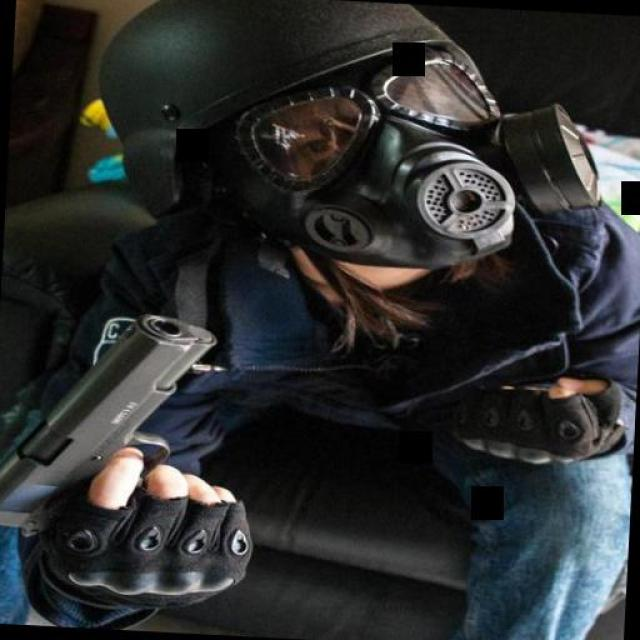gun: (0, 296, 221, 552)
